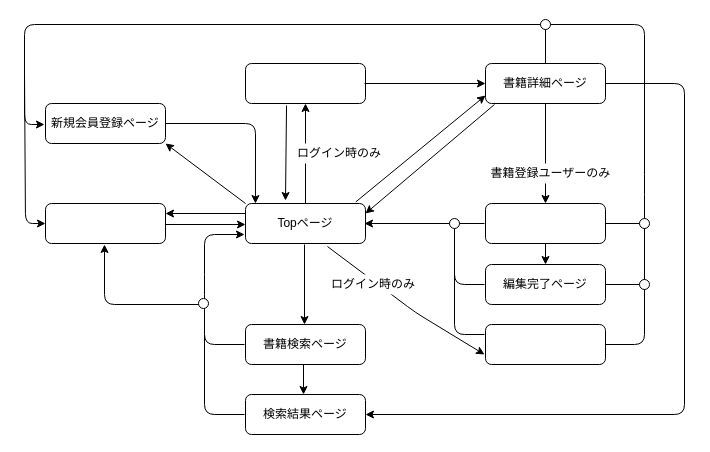
Some shapes in this 710 by 452 pixel diagram are drawn without their labels. Here are the shapes that lost their labels. From the top down, the centre of each, then its label:
(305,83): マイページ
(105,223): サインインページ
(545,223): 商品編集ページ
(545,344): 書籍情報登録ページ
